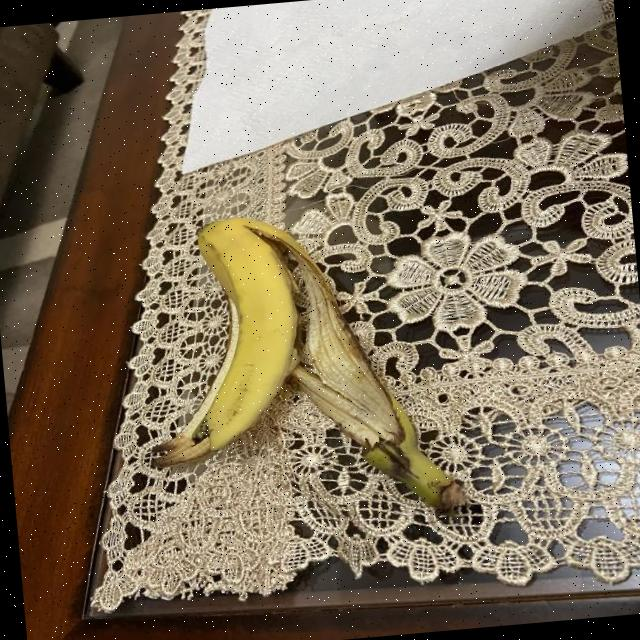banana-peel: (130, 196, 468, 537), (129, 212, 311, 468)
